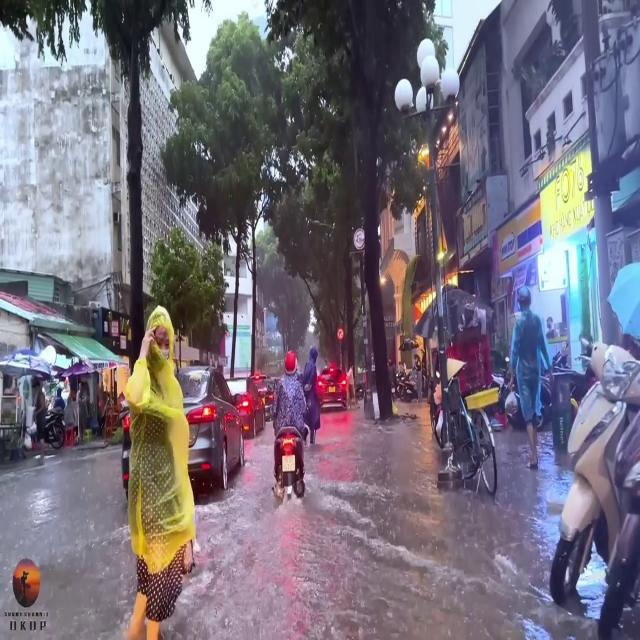bien_trang: (282, 452, 296, 470)
